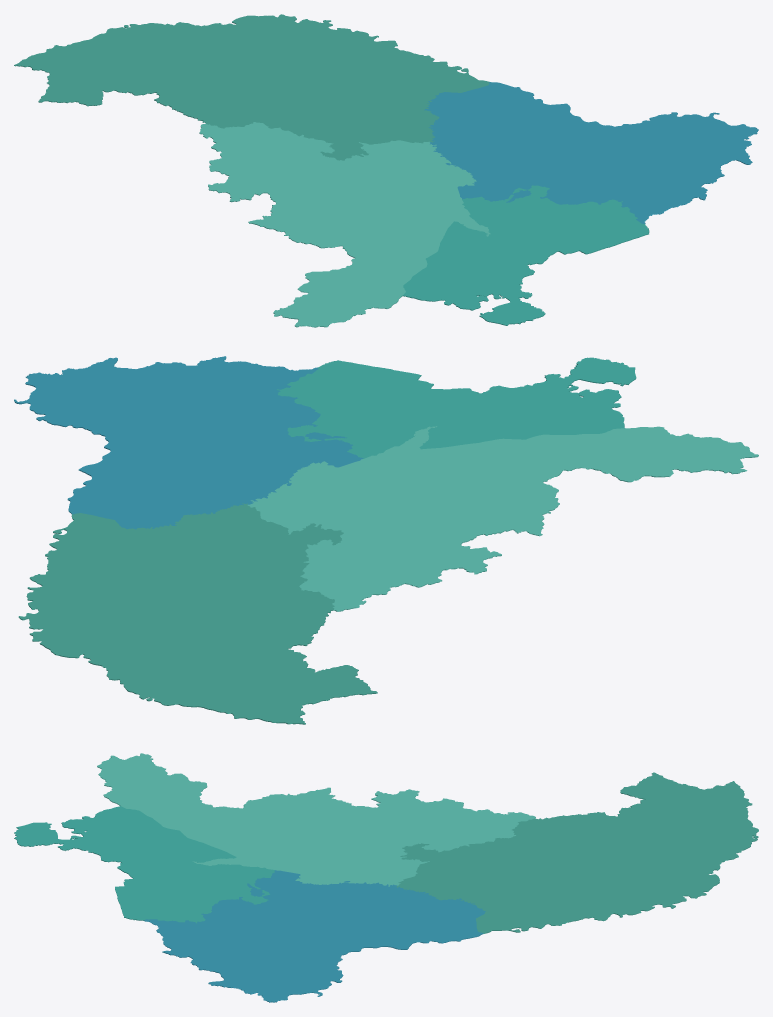
The model's file is four-region-atlas.glb.
3 renders of one model, top to bottom at view 1: azimuth 30°, elevation 25°; view 2: azimuth 150°, elevation 25°; view 3: azimuth 270°, elevation 25°, orthographic. The views are drawn at different scales.
Parts seen in each view (by area): view 1: region_232700, region_150700, region_231100, region_230200; view 2: region_232700, region_150700, region_231100, region_230200; view 3: region_232700, region_150700, region_231100, region_230200.
Part boxes in pixels (x1,y1,x2,y2): region_232700: (14,14,489,160); region_150700: (199,122,490,327); region_231100: (424,82,758,223); region_230200: (403,185,649,325); region_232700: (18,503,377,724); region_150700: (247,426,758,611); region_231100: (14,356,363,529); region_230200: (277,357,636,458); region_232700: (395,772,758,933); region_150700: (97,753,535,886); region_231100: (144,870,485,1002); region_230200: (14,806,274,923).
Bounding box in the file's own units: 1006046 × 1200 × 1271589.
